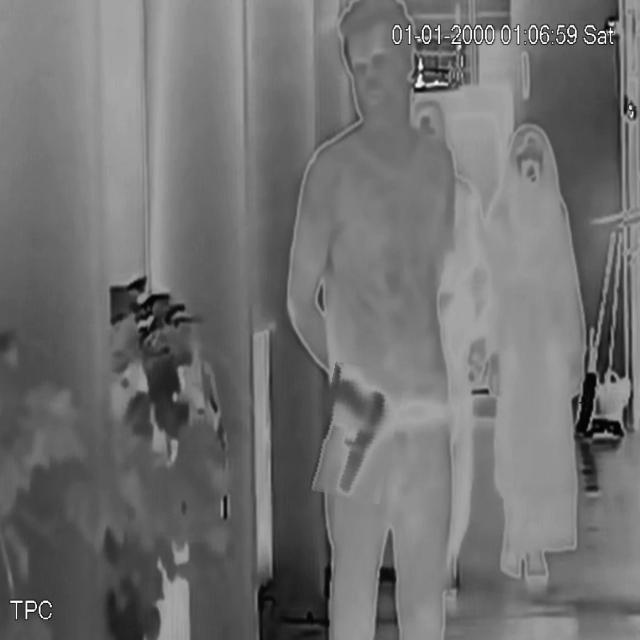Weapon: (316, 364, 400, 501)
